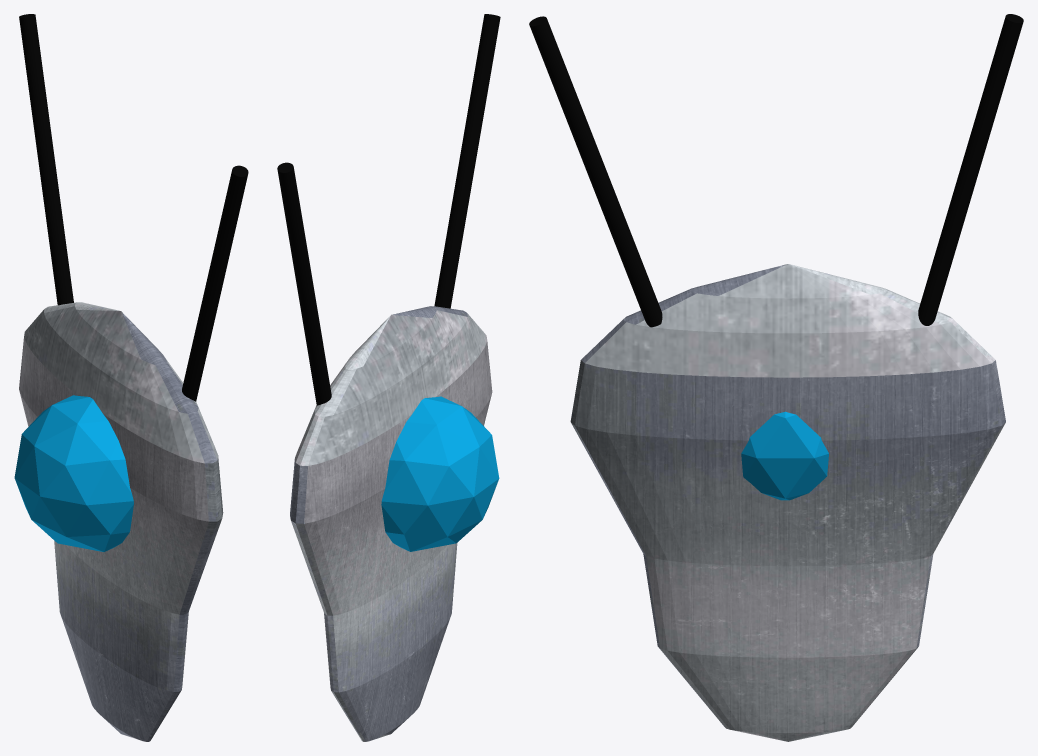
File: pod2.obj
3 renders of one model, left to right at view 1: azimuth 30°, elevation 25°; view 2: azimuth 150°, elevation 25°; view 3: azimuth 270°, elevation 25°, orthographic. The views are drawn at different scales.
Visible parts, largest first — view 1: Icosphere; view 2: Icosphere; view 3: Icosphere.
Part boxes in pixels (x1,y1,x2,y2): Icosphere: [14, 14, 248, 741]; Icosphere: [277, 14, 500, 741]; Icosphere: [529, 14, 1023, 741].
Size of the model in its own units: 0.9857 by 4.47 by 2.75.
Materials: 1 (1 with a texture image).
